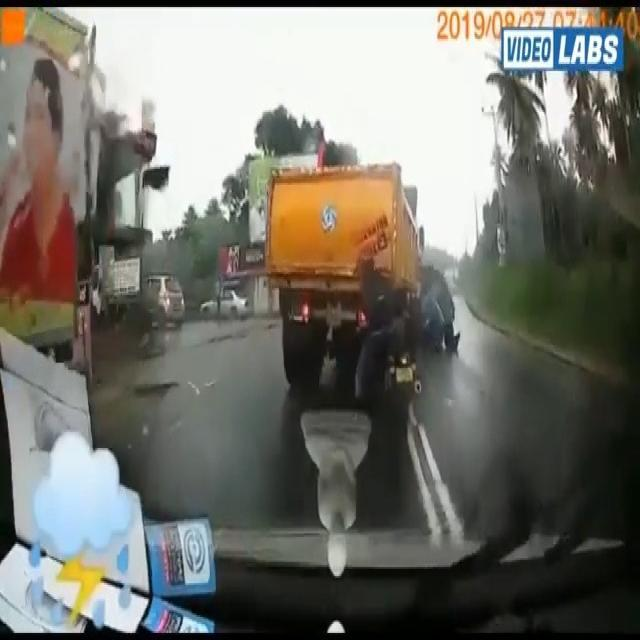multiple_accident: (323, 139, 480, 419)
